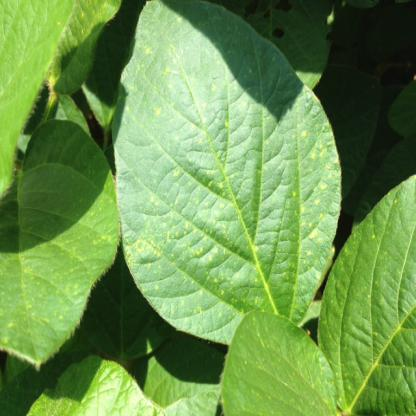soybean leaf: (111, 1, 345, 358), (1, 118, 121, 370)
